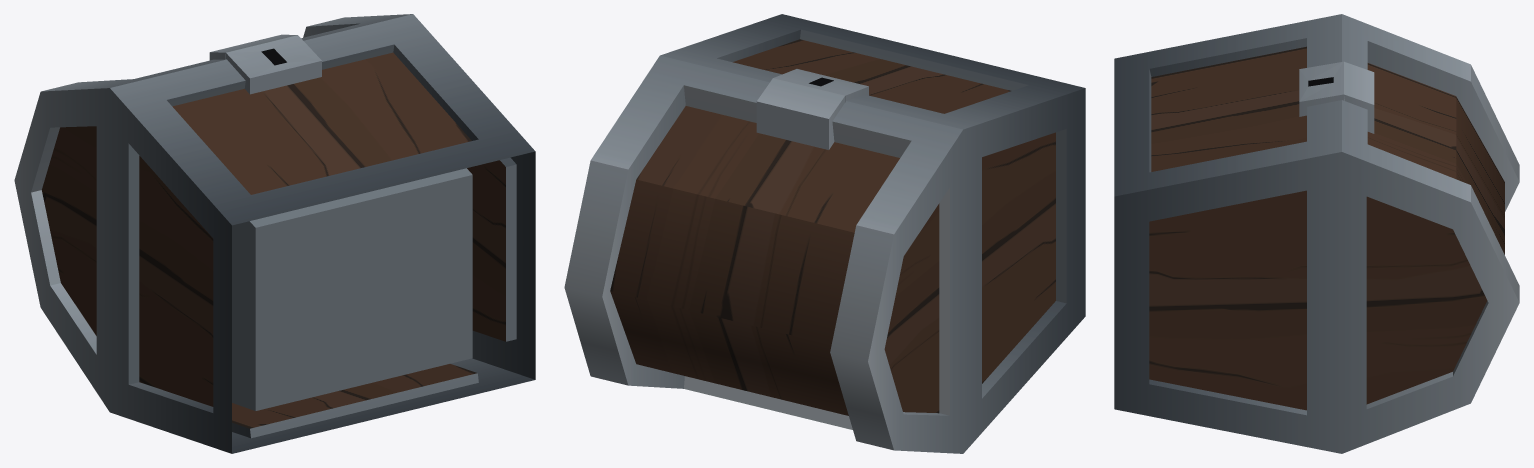
File: Chest 05.FBX
The picture shows the model from 3 angles, left to right: view 1: azimuth 30°, elevation 25°; view 2: azimuth 150°, elevation 25°; view 3: azimuth 270°, elevation 25°; orthographic projection. The views are drawn at different scales.
Parts seen in each view (by area): view 1: Chest 05, Chest 05 Cover; view 2: Chest 05 Cover, Chest 05; view 3: Chest 05, Chest 05 Cover.
Part boxes in pixels (left/top/right/bottom): Chest 05: left=110, top=14, right=535, bottom=453; Chest 05 Cover: left=14, top=14, right=412, bottom=411; Chest 05 Cover: left=564, top=55, right=963, bottom=453; Chest 05: left=660, top=14, right=1085, bottom=453; Chest 05: left=1114, top=14, right=1343, bottom=453; Chest 05 Cover: left=1342, top=14, right=1519, bottom=453.
Bounding box in the file's own units: 78.26 × 81.41 × 97.2.
